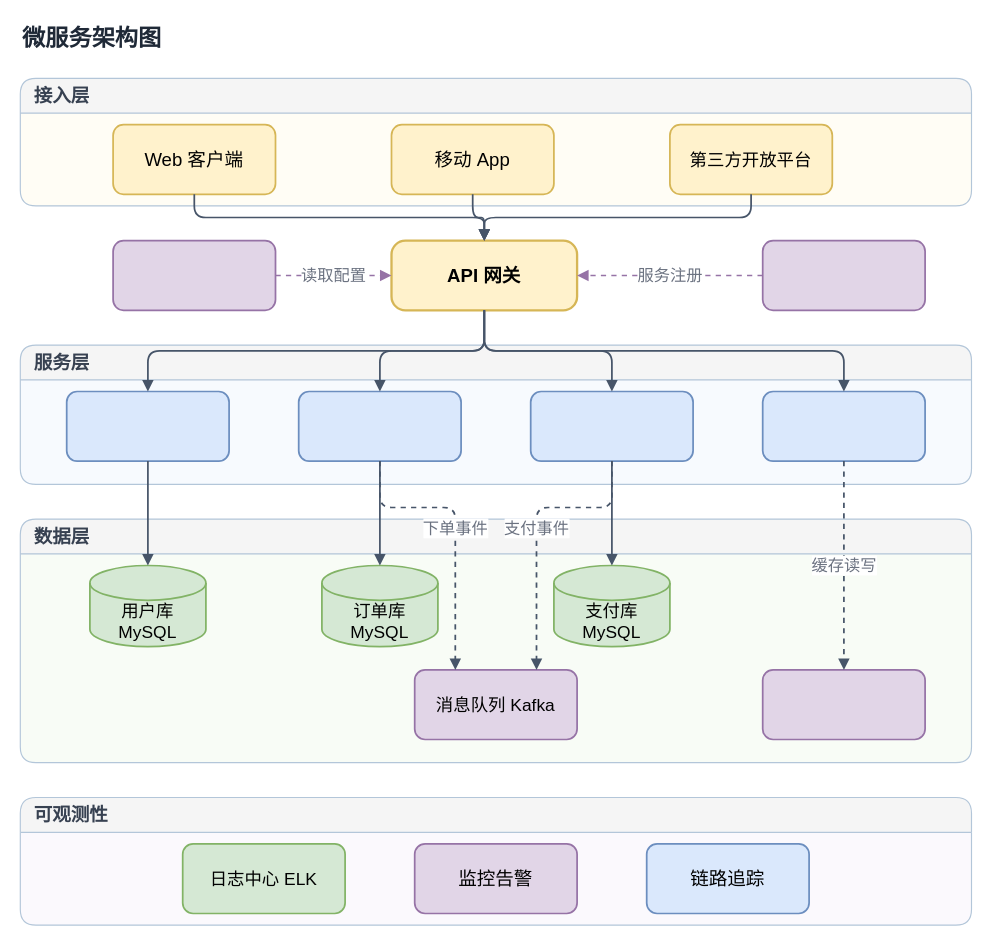
This 992x945 diagram has some shape labels left out. Each missing label, with the centre of its shape:
"Redis 缓存" goes at pixel 843 704.
"支付服务" goes at pixel 611 425.
"注册中心" goes at pixel 843 275.
"用户服务" goes at pixel 147 425.
"订单服务" goes at pixel 379 425.
"通知服务" goes at pixel 843 425.
"配置中心 Nacos" goes at pixel 194 275.
